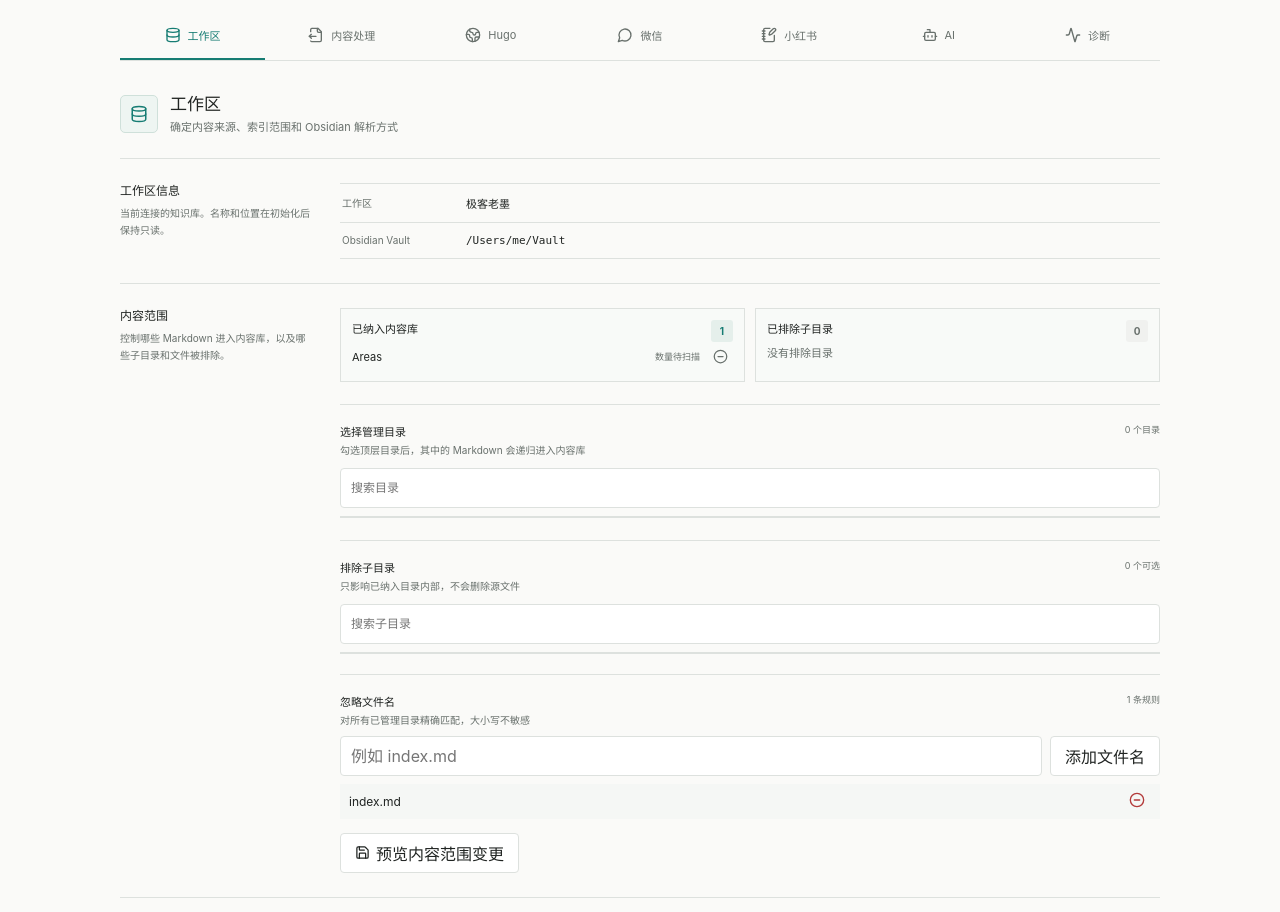
Scenario: 重新诊断失败时显示错误且保留原诊断
Expected: the text "极客老墨" is shown, x1=466 y1=197 x2=510 y2=211
Click the tab "诊断". click: (1087, 36)
box: x1=1015 y1=12 x2=1160 y2=60
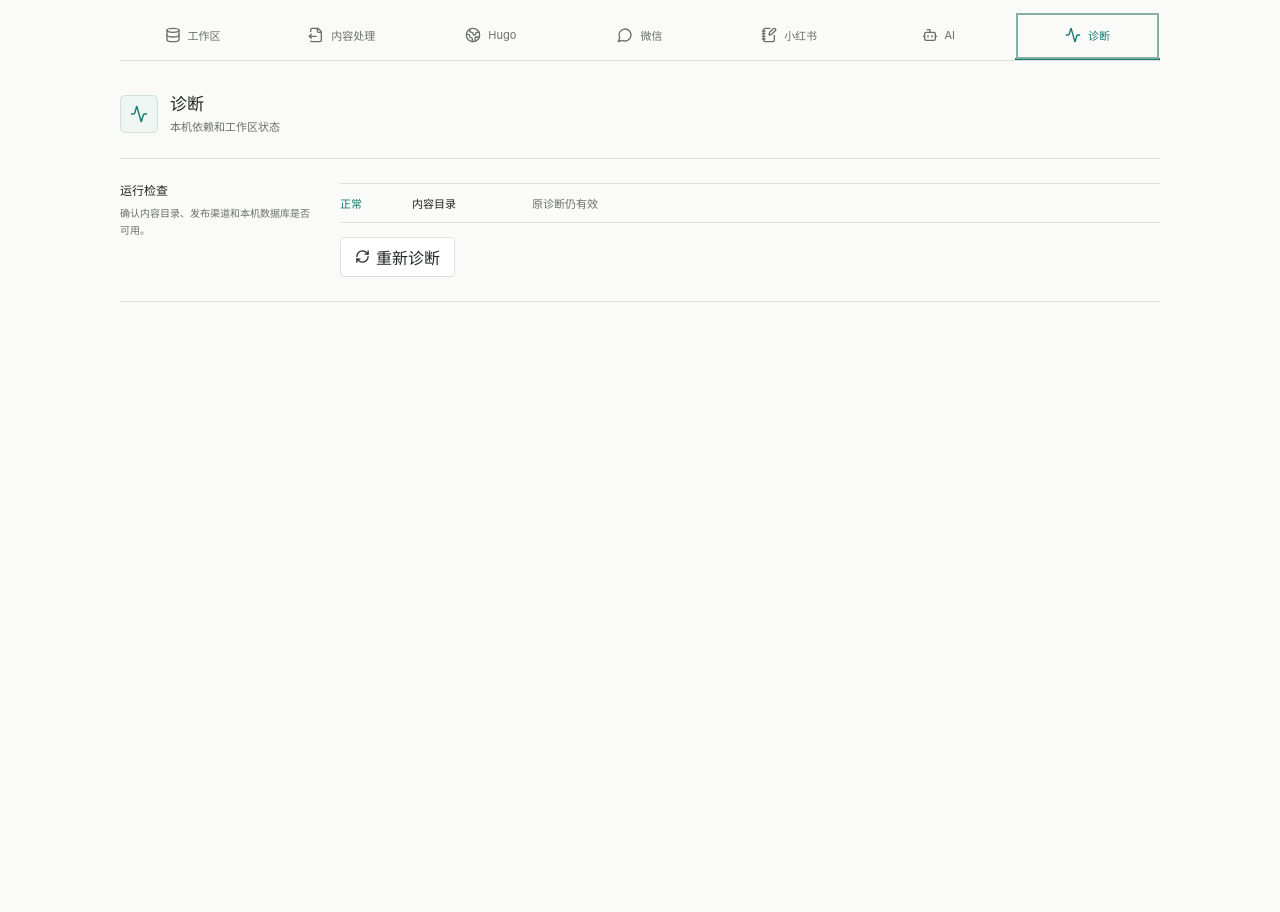
Result: the text "原诊断仍有效" is shown at x1=532 y1=197 x2=598 y2=211
Click the button "重新诊断". click: (398, 257)
box: x1=340 y1=237 x2=455 y2=277
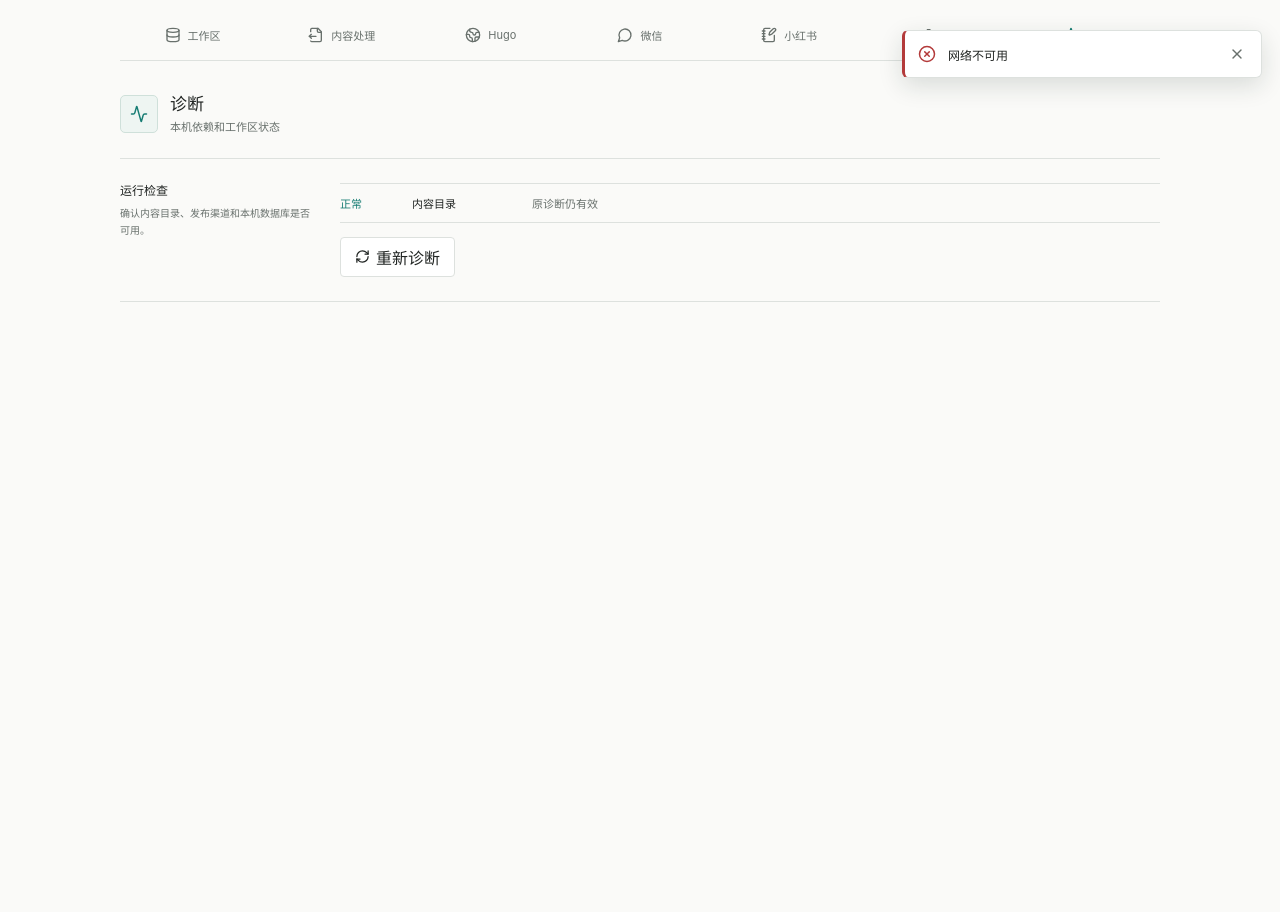
Result: the text "原诊断仍有效" is shown at x1=532 y1=197 x2=598 y2=211
Result: the message reads "网络不可用" at x1=948 y1=48 x2=1008 y2=62
